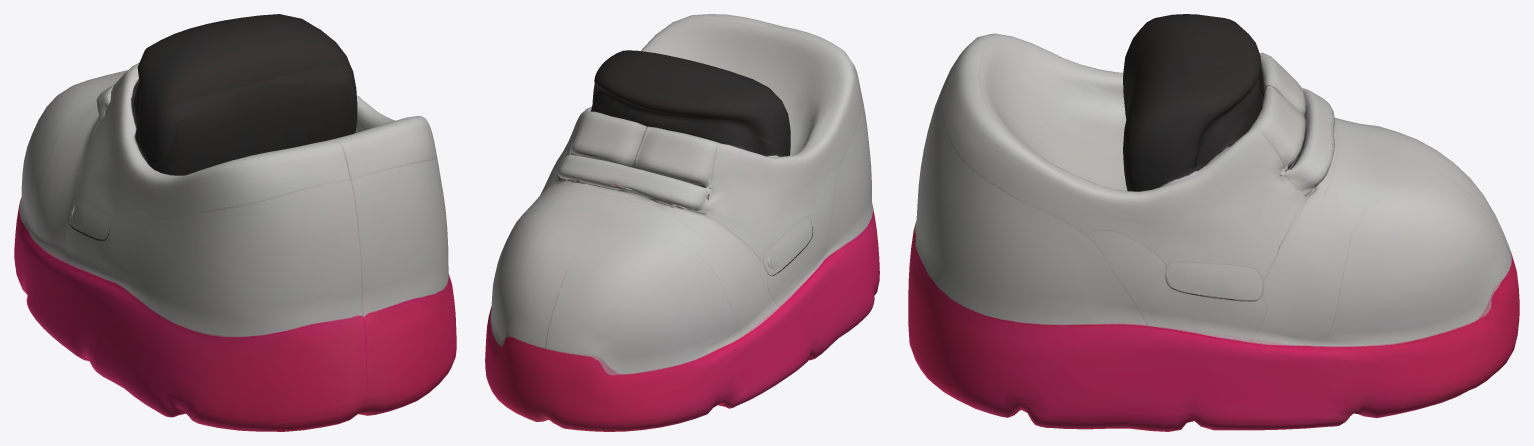
Rendered from chr_player_capsule01_bunny01_foot_l_top3d_v005.glb.
3 views of the same model, side by side, from view 1: azimuth 30°, elevation 25°; view 2: azimuth 150°, elevation 25°; view 3: azimuth 270°, elevation 25° (orthographic). The views are drawn at different scales.
Visible parts, largest first — view 1: EXPORT_chr_player_capsule01_bunny01_foot_l_top3d_v005_00; view 2: EXPORT_chr_player_capsule01_bunny01_foot_l_top3d_v005_00; view 3: EXPORT_chr_player_capsule01_bunny01_foot_l_top3d_v005_00.
Boxes of the visible parts, box(x1,y1,x2,y2) form: EXPORT_chr_player_capsule01_bunny01_foot_l_top3d_v005_00: box(14, 14, 456, 431); EXPORT_chr_player_capsule01_bunny01_foot_l_top3d_v005_00: box(485, 14, 879, 431); EXPORT_chr_player_capsule01_bunny01_foot_l_top3d_v005_00: box(908, 14, 1519, 431).
Size of the model in its own units: 0.1234 by 0.1198 by 0.2046.
1 material, 1 textured.
